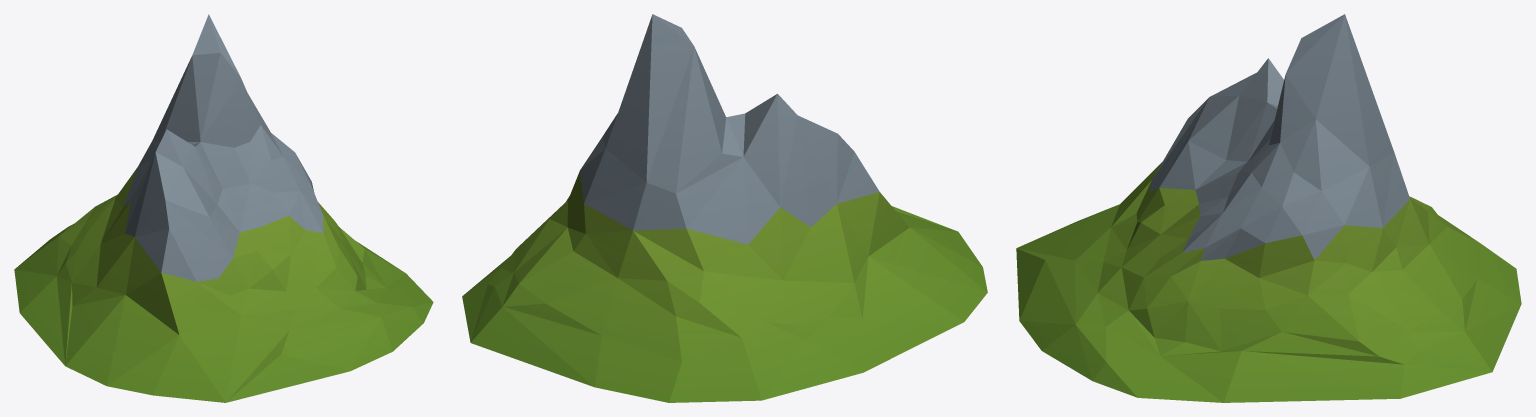
The model's file is Mountain_04.fbx.
The picture shows the model from 3 angles, left to right: view 1: azimuth 30°, elevation 25°; view 2: azimuth 150°, elevation 25°; view 3: azimuth 270°, elevation 25°; orthographic projection. The views are drawn at different scales.
Parts seen in each view (by area): view 1: Mountain_04; view 2: Mountain_04; view 3: Mountain_04.
Boxes of the visible parts, x1=… form: Mountain_04: x1=14, y1=14, x2=433, y2=402; Mountain_04: x1=462, y1=14, x2=987, y2=402; Mountain_04: x1=1016, y1=14, x2=1521, y2=402.
Size of the model in its own units: 7414 by 5200 by 7817.
